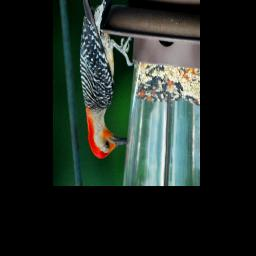Woodpecker: (77, 0, 133, 159)
